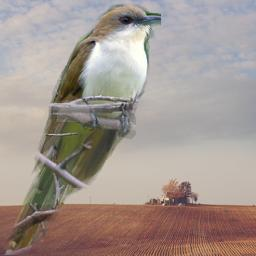Cuckoo: (3, 1, 161, 255)
